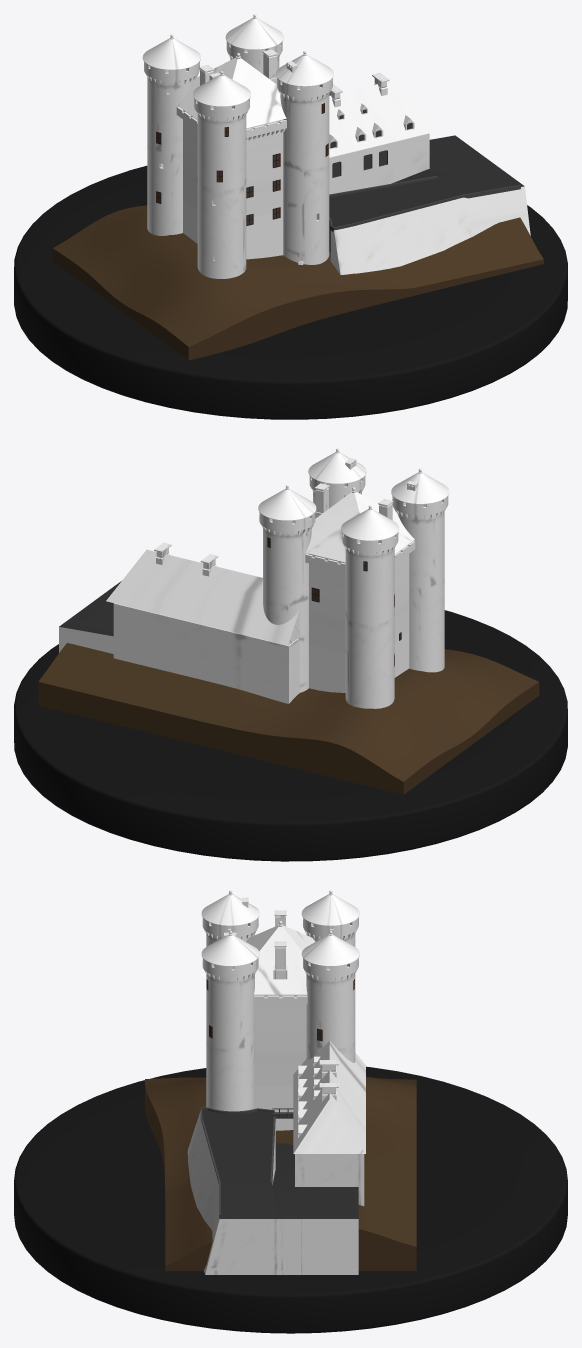
3 views of the same model, one above another, from view 1: azimuth 30°, elevation 25°; view 2: azimuth 150°, elevation 25°; view 3: azimuth 270°, elevation 25° (orthographic).
Visible parts, largest first — view 1: Environment.003, Environment.001, Main, House.004, Main.001, Roof, House, House.013, Roof.001, House.011, Roof.002, Main.002; view 2: Environment.003, Environment.001, Main, House.013, House, Main.001, Roof, Roof.001, House.004, Roof.002, Main.002; view 3: Environment.003, House.004, Environment.001, Main, House, Roof, Main.001, Roof.001, House.013, House.011, Roof.002.
Part boxes in pixels (x1,y1,x2,y2): Environment.003: (14, 165, 567, 419); Environment.001: (52, 205, 543, 360); Main: (144, 41, 332, 278); House.004: (329, 135, 530, 274); Main.001: (183, 110, 283, 259); Roof: (142, 18, 333, 106); House: (329, 79, 436, 157); House.013: (329, 133, 429, 194); Roof.001: (177, 57, 286, 128); House.011: (329, 176, 520, 231); Roof.002: (199, 49, 277, 85); Main.002: (176, 107, 286, 137); Environment.003: (14, 610, 567, 861); Environment.001: (38, 643, 539, 794); Main: (259, 476, 448, 708); House.013: (113, 603, 299, 703); House: (106, 549, 299, 645); Main.001: (309, 544, 409, 692); Roof: (258, 452, 449, 540); Roof.001: (305, 492, 414, 562); House.004: (59, 581, 121, 653); Roof.002: (314, 483, 393, 520); Main.002: (305, 541, 415, 572); Environment.003: (14, 1066, 567, 1333); House.004: (187, 1110, 358, 1274); Environment.001: (145, 1076, 416, 1270); Main: (202, 917, 358, 1111); House: (293, 1040, 365, 1153); Roof: (201, 894, 359, 966); Main.001: (255, 994, 306, 1130); Roof.001: (246, 925, 315, 994); House.013: (295, 1154, 364, 1205); House.011: (200, 1107, 275, 1217); Roof.002: (273, 910, 287, 979).
Size of the model in its own units: 96.26 by 53.39 by 96.26.
Materials: 8 (2 with a texture image).
